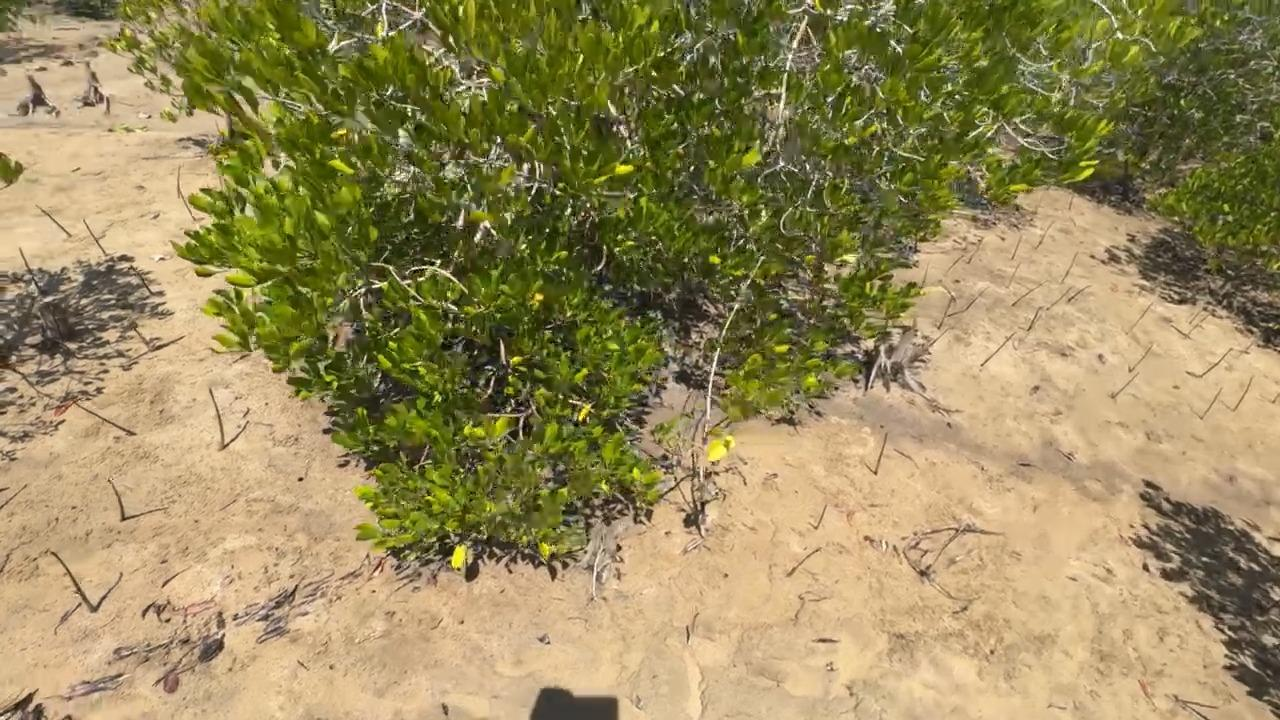Tree: (46, 548, 100, 612), (937, 279, 990, 330), (980, 330, 1018, 368), (1198, 347, 1238, 379), (36, 204, 74, 237), (784, 546, 821, 578), (19, 248, 45, 293), (1125, 301, 1157, 335), (209, 388, 225, 450), (82, 218, 108, 256), (1010, 280, 1046, 307), (1110, 371, 1140, 399), (1045, 284, 1076, 311), (107, 478, 126, 522), (1200, 386, 1224, 420), (129, 264, 155, 295), (1, 483, 29, 509), (1182, 313, 1210, 339), (1233, 376, 1252, 413), (1129, 344, 1153, 372), (873, 432, 888, 476), (1034, 219, 1055, 250), (1060, 252, 1078, 285), (1066, 284, 1092, 304), (180, 190, 196, 221), (1175, 698, 1220, 709), (930, 326, 953, 347), (967, 237, 984, 265), (1005, 261, 1022, 288), (1026, 306, 1043, 331), (944, 254, 964, 274), (814, 503, 828, 530), (1011, 235, 1022, 260), (1238, 342, 1255, 358), (921, 260, 930, 286), (176, 163, 182, 198), (1189, 309, 1203, 324), (691, 612, 699, 630), (1068, 192, 1075, 210), (685, 626, 691, 644), (214, 120, 221, 132), (106, 96, 110, 115), (1272, 393, 1279, 403), (914, 234, 918, 251)
